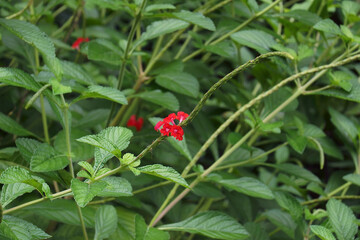snakeweed: (64, 93, 207, 210)
